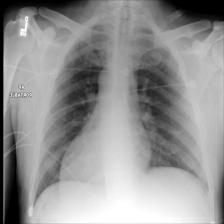normal: (29, 18, 212, 204)
